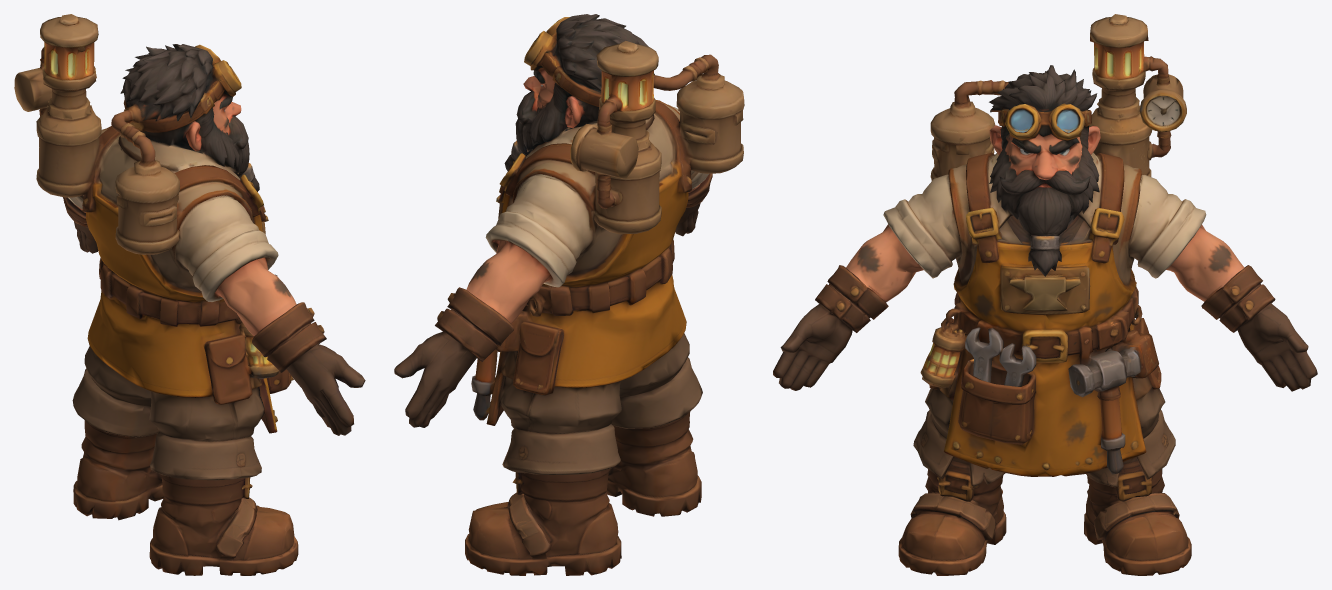
The model's file is dwarf_engineer_raw.glb.
The picture shows the model from 3 angles, left to right: view 1: azimuth 30°, elevation 25°; view 2: azimuth 150°, elevation 25°; view 3: azimuth 270°, elevation 25°; orthographic projection. The views are drawn at different scales.
Visible parts, largest first — view 1: tripo_node_e7f746cf-a29f-4846-bd53-5693d49bd852; view 2: tripo_node_e7f746cf-a29f-4846-bd53-5693d49bd852; view 3: tripo_node_e7f746cf-a29f-4846-bd53-5693d49bd852.
Boxes of the visible parts, x1=… form: tripo_node_e7f746cf-a29f-4846-bd53-5693d49bd852: x1=14, y1=14, x2=365, y2=575; tripo_node_e7f746cf-a29f-4846-bd53-5693d49bd852: x1=394, y1=14, x2=744, y2=575; tripo_node_e7f746cf-a29f-4846-bd53-5693d49bd852: x1=773, y1=14, x2=1317, y2=575.
Size of the model in its own units: 0.41 by 1 by 0.9966.
Materials: 1 (1 with a texture image).
